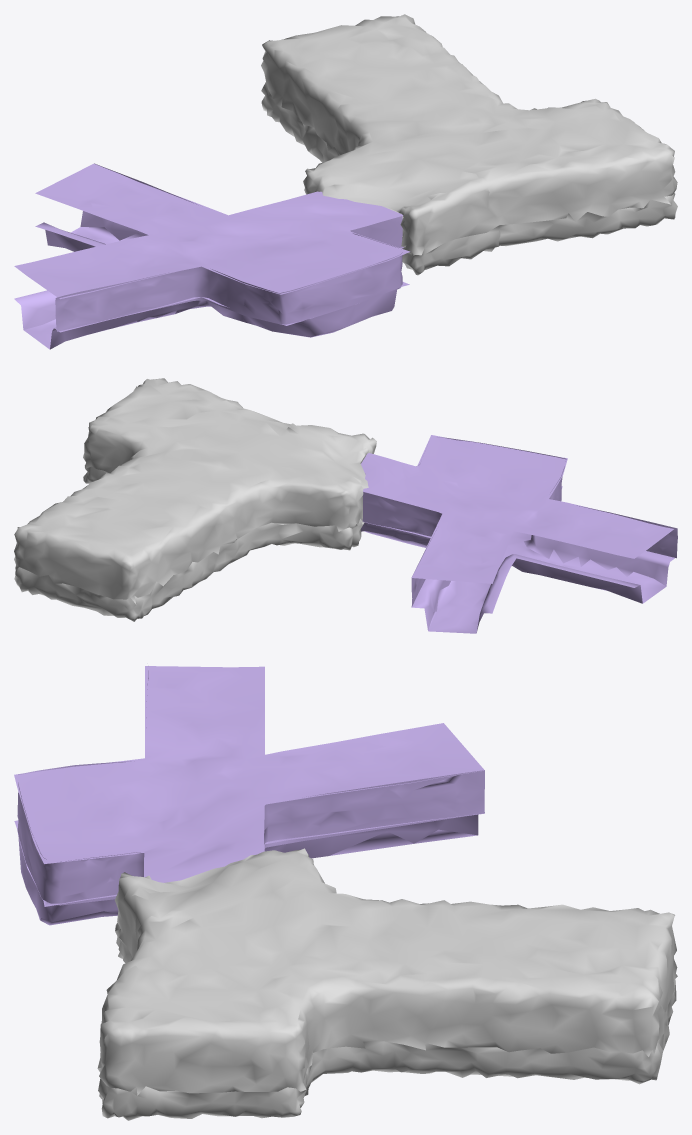
The model's file is Unique 5.fbx.
The picture shows the model from 3 angles, top to bottom: view 1: azimuth 30°, elevation 25°; view 2: azimuth 150°, elevation 25°; view 3: azimuth 270°, elevation 25°; orthographic projection. The views are drawn at different scales.
Parts seen in each view (by area): view 1: Plane.017, Unique_5.002, Unique_5.001, Plane.015, Unique_5, Unique_5.003; view 2: Plane.017, Unique_5.002, Plane.015, Unique_5, Unique_5.003, Unique_5.001; view 3: Plane.017, Unique_5.002, Plane.015, Unique_5.001, Unique_5, Unique_5.003.
Part boxes in pixels (x1,y1,x2,y2): Plane.017: (261, 14, 677, 256); Unique_5.002: (14, 163, 410, 299); Unique_5.001: (55, 163, 402, 331); Plane.015: (261, 85, 677, 275); Unique_5: (14, 211, 409, 349); Unique_5.003: (23, 227, 389, 349); Plane.017: (14, 378, 376, 604); Unique_5.002: (361, 435, 673, 583); Plane.015: (14, 465, 364, 621); Unique_5: (361, 486, 674, 632); Unique_5.003: (364, 512, 666, 633); Unique_5.001: (362, 437, 677, 606); Plane.017: (97, 848, 677, 1095); Unique_5.002: (14, 666, 484, 882); Plane.015: (98, 929, 677, 1120); Unique_5.001: (17, 670, 484, 905); Unique_5: (14, 804, 484, 921); Unique_5.003: (26, 829, 477, 925).
Size of the model in its own units: 1782 by 220 by 1294.
